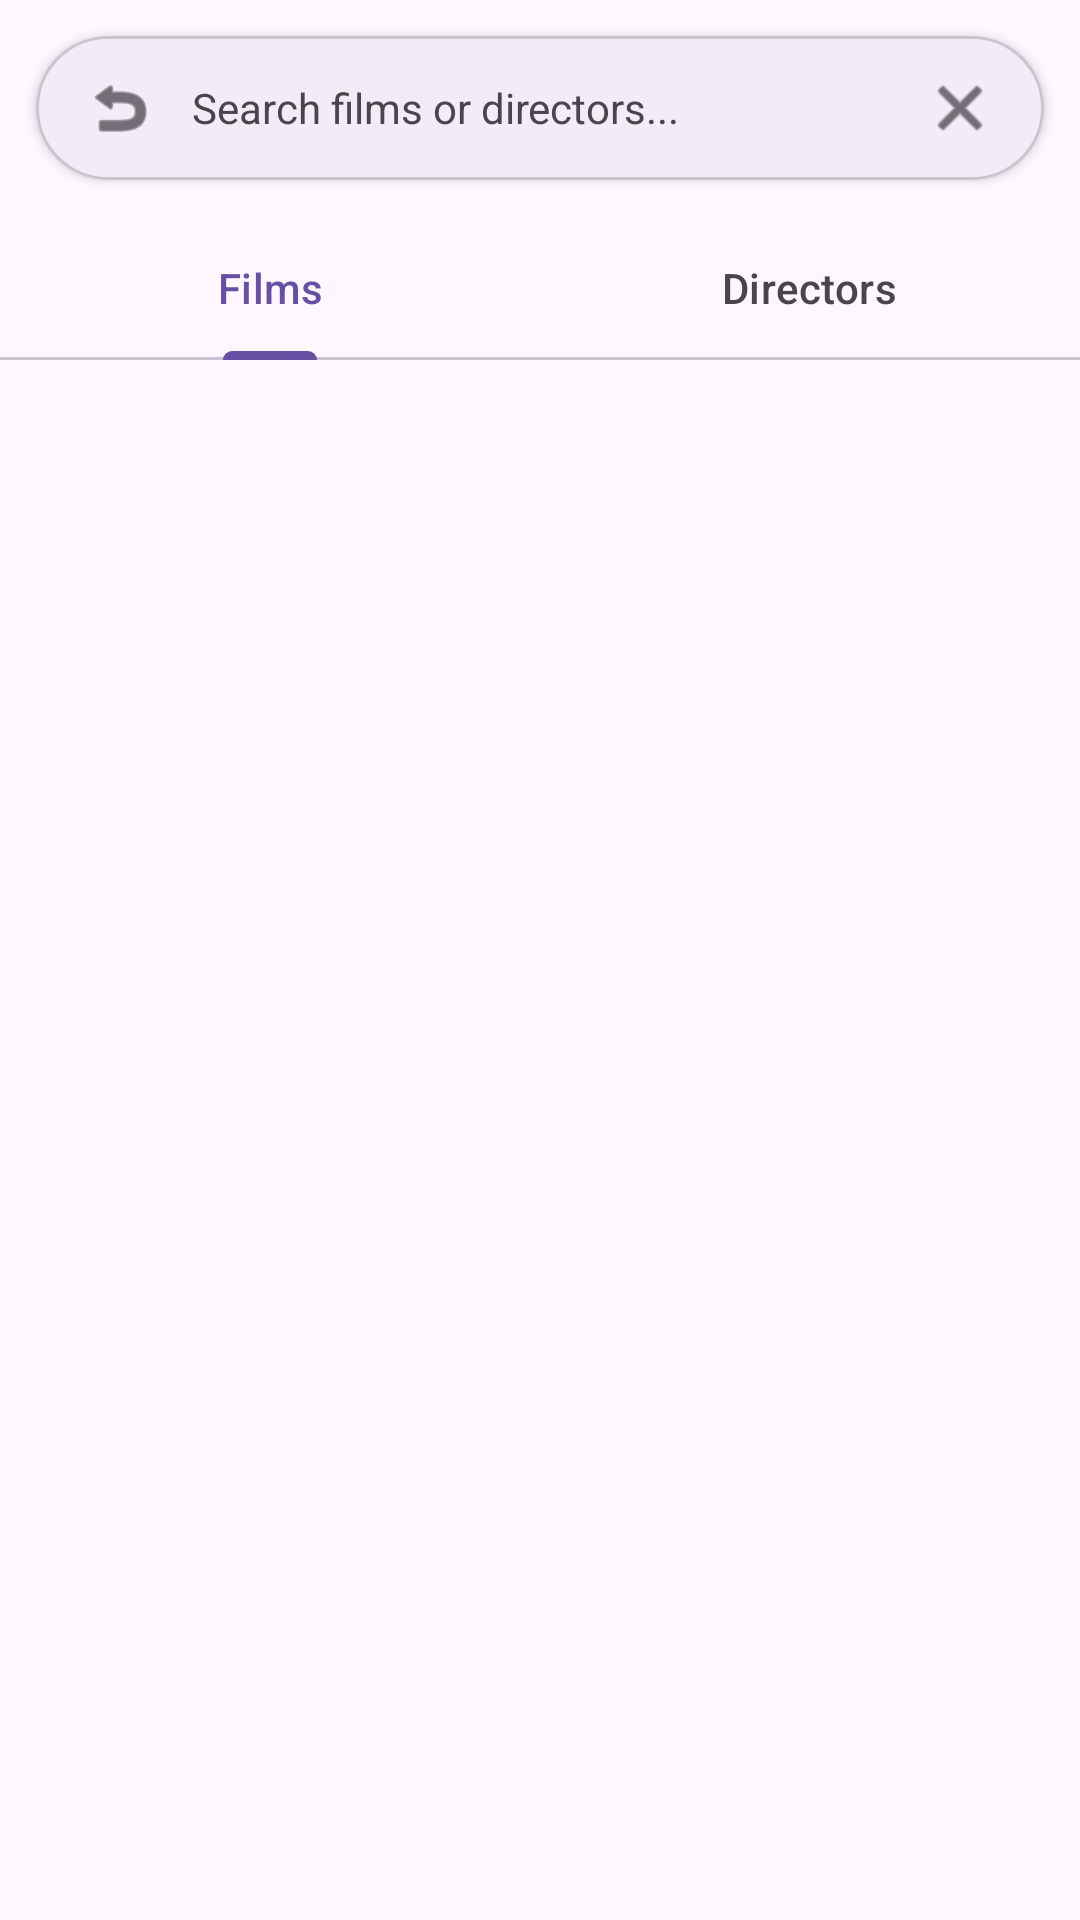

Screen size 1080 × 1920. Icon name, then its box in pixels as (x1,y1,x2,y2):
close clear cancel: (937,85,983,131)
revert: (95,85,147,132)
